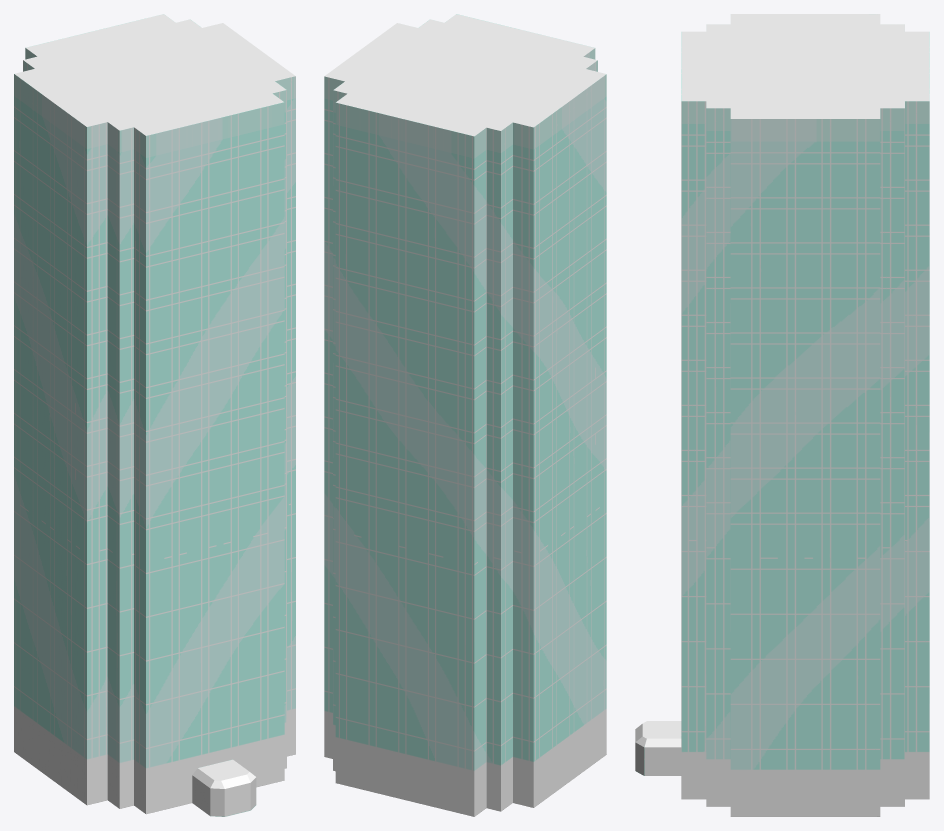
The model's file is Skyscraper 1_noGround.fbx.
The picture shows the model from 3 angles, left to right: view 1: azimuth 30°, elevation 25°; view 2: azimuth 150°, elevation 25°; view 3: azimuth 270°, elevation 25°; orthographic projection. The views are drawn at different scales.
Visible parts, largest first — view 1: Cube; view 2: Cube; view 3: Cube.
Part boxes in pixels (x1,y1,x2,y2): Cube: (14, 14, 295, 816); Cube: (324, 14, 606, 816); Cube: (635, 14, 929, 816).
Size of the model in its own units: 99.93 by 310 by 118.
